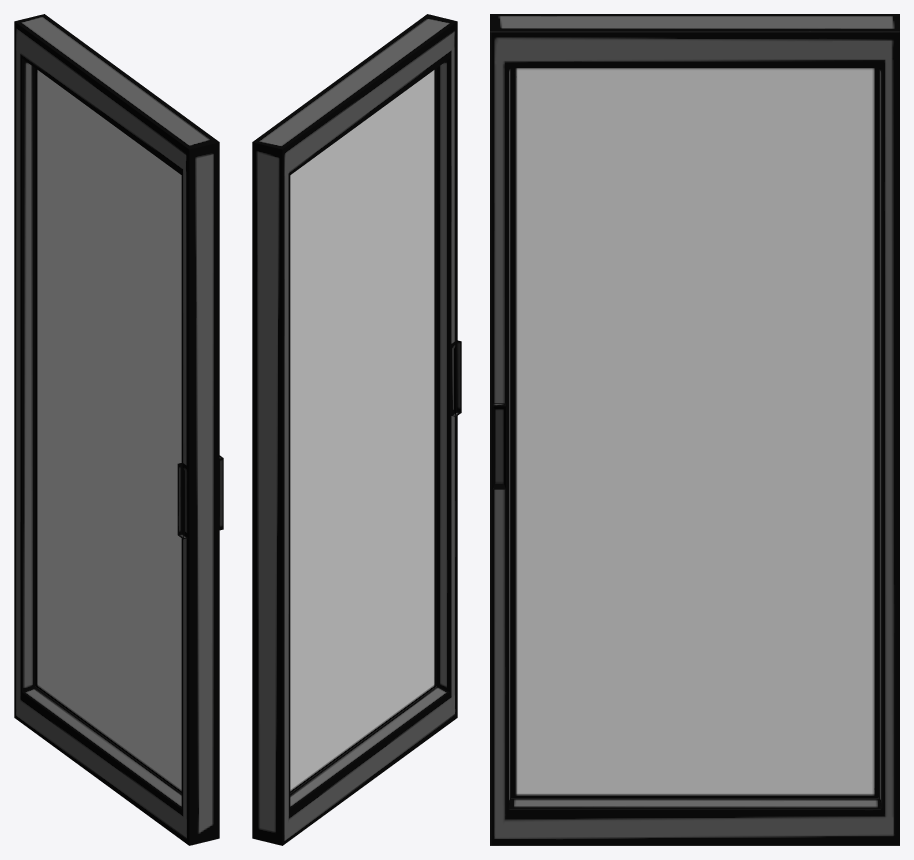
The model's file is door.glb.
The picture shows the model from 3 angles, left to right: view 1: azimuth 30°, elevation 25°; view 2: azimuth 150°, elevation 25°; view 3: azimuth 270°, elevation 25°; orthographic projection. The views are drawn at different scales.
Visible parts, largest first — view 1: Porta Interna; view 2: Porta Interna; view 3: Porta Interna.
Boxes of the visible parts, box(x1,y1,x2,y2) form: Porta Interna: box(14, 14, 223, 845); Porta Interna: box(252, 14, 461, 845); Porta Interna: box(490, 14, 899, 845).
Bounding box in the file's own units: 0.1459 × 2.4 × 1.09.
1 material, 1 textured.
